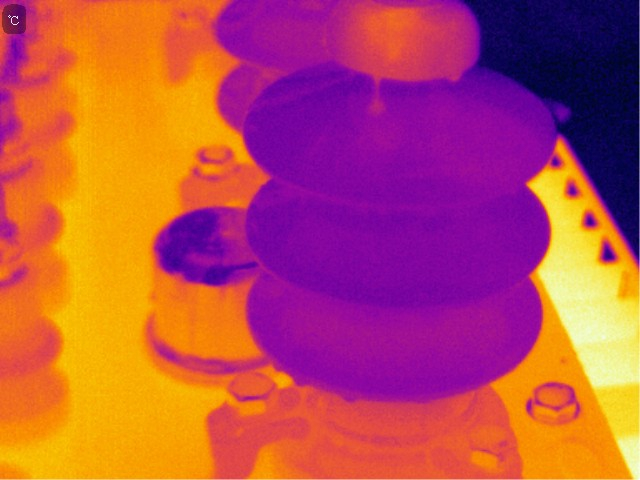Oil: (349, 1, 471, 85), (271, 87, 326, 101), (365, 91, 390, 115), (337, 387, 361, 403), (291, 369, 310, 388), (269, 355, 287, 373)
